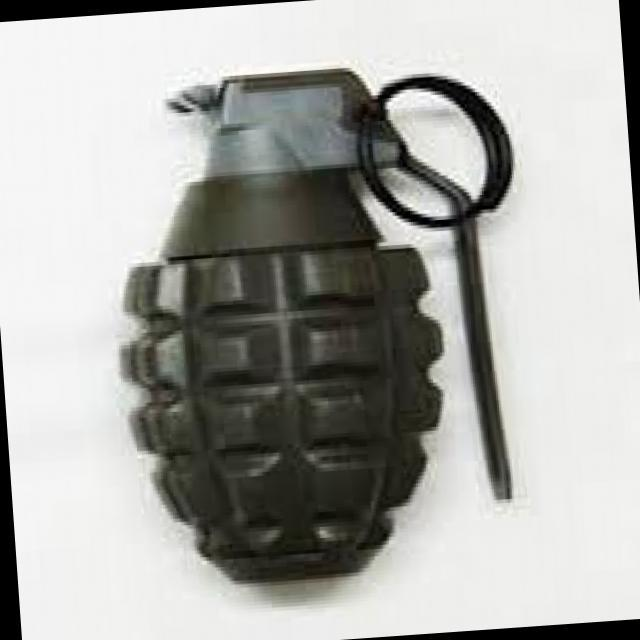grenade: (102, 32, 540, 592)
